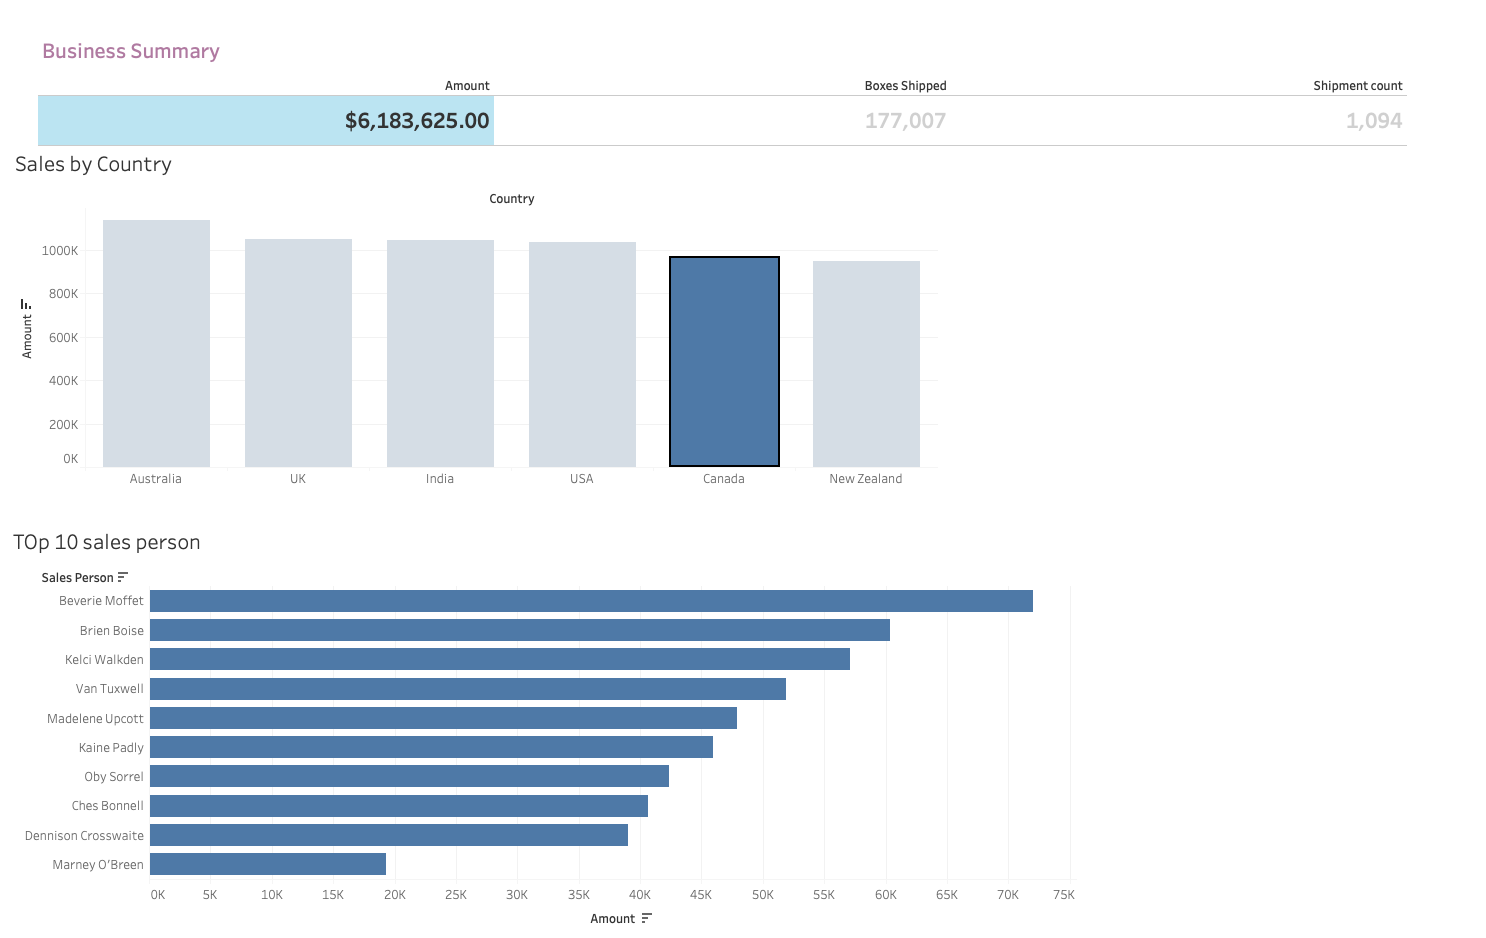

Layout of this report page (visuals, bound fields, positions):
{"tool":"tableau","page":{"name":"Dashboard 1","canvas":[1000,1000],"units":"permille","ordinal":0},"visuals":[{"type":"worksheet","title":"Sheet 3","mark":"Automatic","box":[26.2,41.9,801.4,120.6]},{"type":"worksheet","title":"Sheet 1","mark":"Automatic","rows":["Amount"],"cols":["Country"],"box":[10.3,161.2,542.5,382]},{"type":"worksheet","title":"Sheet 2","mark":"Automatic","rows":["Sales Person"],"cols":["Amount"],"box":[9.5,559.6,625.1,434]}]}

Visuals, with their boxes on the dashboard's canvas, which has no fixed pixel size, in thousandths of its width and height (x1, y1, x2, y2). These are canvas units, not pixel positions in the 1486x938 screenshot, which may show the page scaled, cropped or inside an application window:
"Sheet 3" worksheet: (26,42,828,162)
"Sheet 1" worksheet: (10,161,553,543)
"Sheet 2" worksheet: (10,560,635,994)
